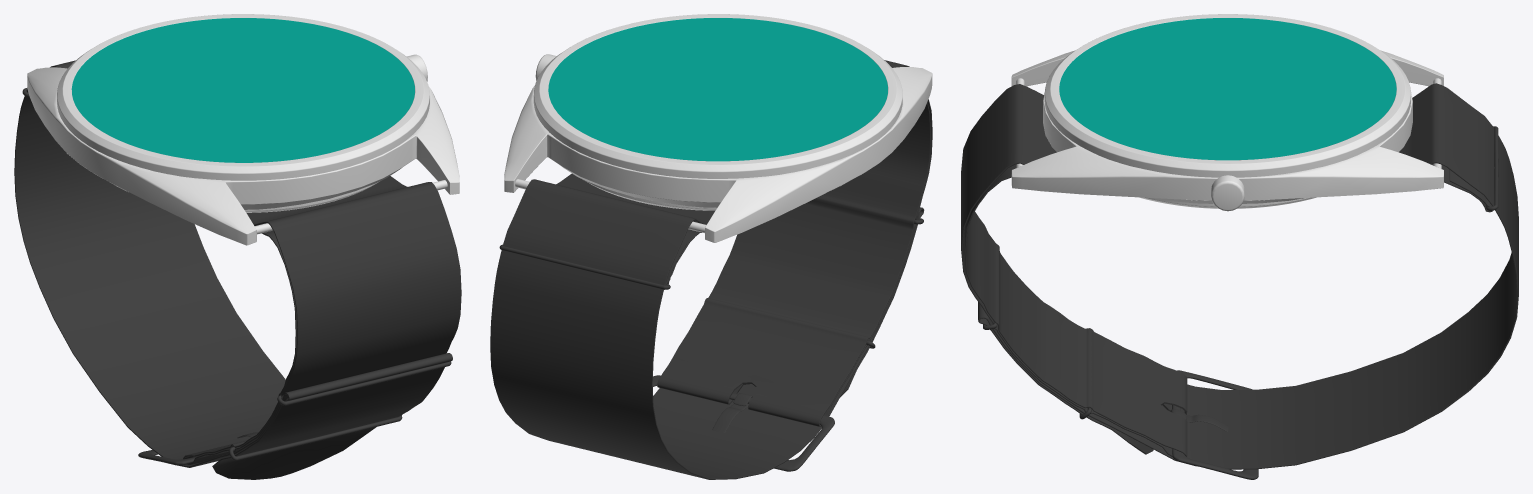
The model's file is watch.fbx.
The picture shows the model from 3 angles, left to right: view 1: azimuth 30°, elevation 25°; view 2: azimuth 150°, elevation 25°; view 3: azimuth 270°, elevation 25°; orthographic projection.
Visible parts, largest first — view 1: belt, glass, body, circle, ring_5, ring_2, battery; view 2: belt, glass, body, circle, ring_4, ring_1, pCube1, battery; view 3: belt, glass, body, circle, ring_4, pimp, battery.
Part boxes in pixels (bbox=[...]): belt: bbox=[14, 60, 461, 479]; glass: bbox=[71, 18, 414, 162]; body: bbox=[27, 67, 459, 245]; circle: bbox=[57, 14, 429, 180]; ring_5: bbox=[229, 415, 402, 460]; ring_2: bbox=[277, 361, 451, 405]; battery: bbox=[110, 181, 379, 212]; belt: bbox=[490, 60, 932, 479]; glass: bbox=[548, 18, 887, 161]; body: bbox=[504, 67, 932, 242]; circle: bbox=[533, 14, 902, 178]; ring_4: bbox=[652, 375, 834, 471]; ring_1: bbox=[499, 244, 670, 289]; pCube1: bbox=[712, 393, 752, 432]; battery: bbox=[582, 179, 848, 210]; belt: bbox=[961, 83, 1518, 469]; glass: bbox=[1059, 18, 1396, 160]; body: bbox=[1011, 50, 1443, 203]; circle: bbox=[1044, 14, 1410, 177]; ring_4: bbox=[1172, 370, 1258, 479]; pimp: bbox=[1211, 175, 1244, 211]; battery: bbox=[1139, 197, 1316, 208].
Bounding box in the file's own units: 90.65 × 91.58 × 131.
